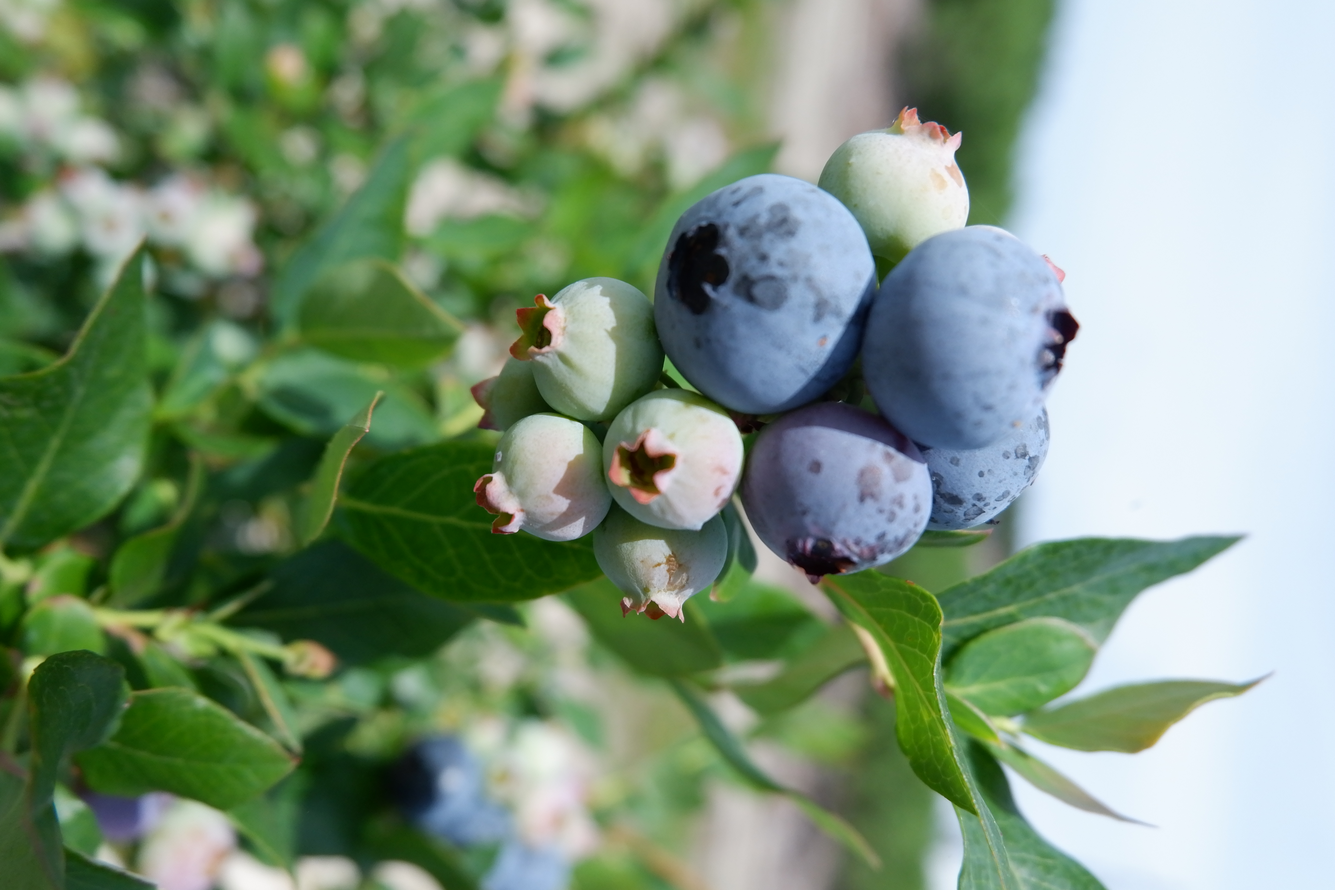Immature: (824, 111, 967, 258), (515, 282, 659, 422), (606, 392, 740, 527), (482, 416, 608, 536), (596, 506, 722, 616), (476, 360, 547, 431)
Mature: (656, 179, 877, 408), (867, 231, 1067, 447), (745, 403, 930, 576), (923, 406, 1051, 525)
